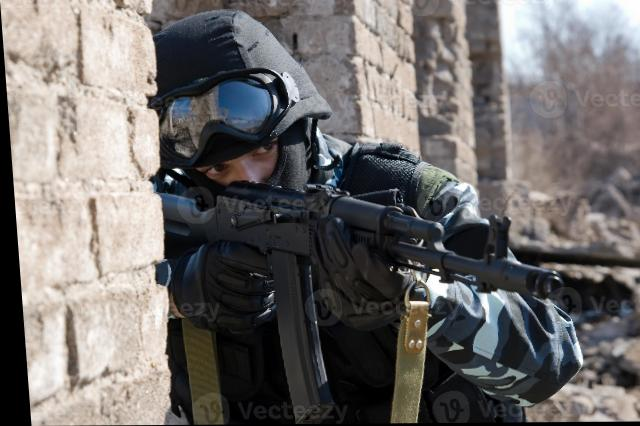other: (148, 19, 483, 416)
